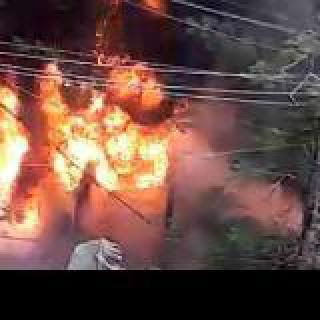fire: (0, 44, 188, 230), (0, 0, 320, 69), (76, 0, 184, 12)
